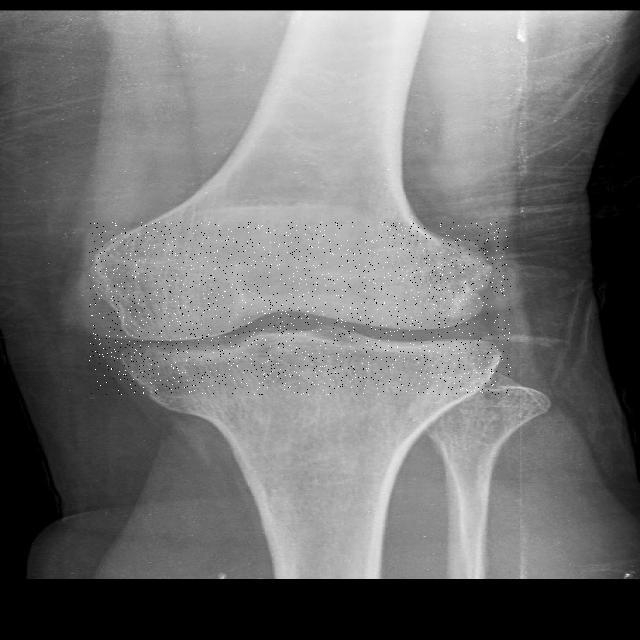osteo: (89, 222, 511, 395)
